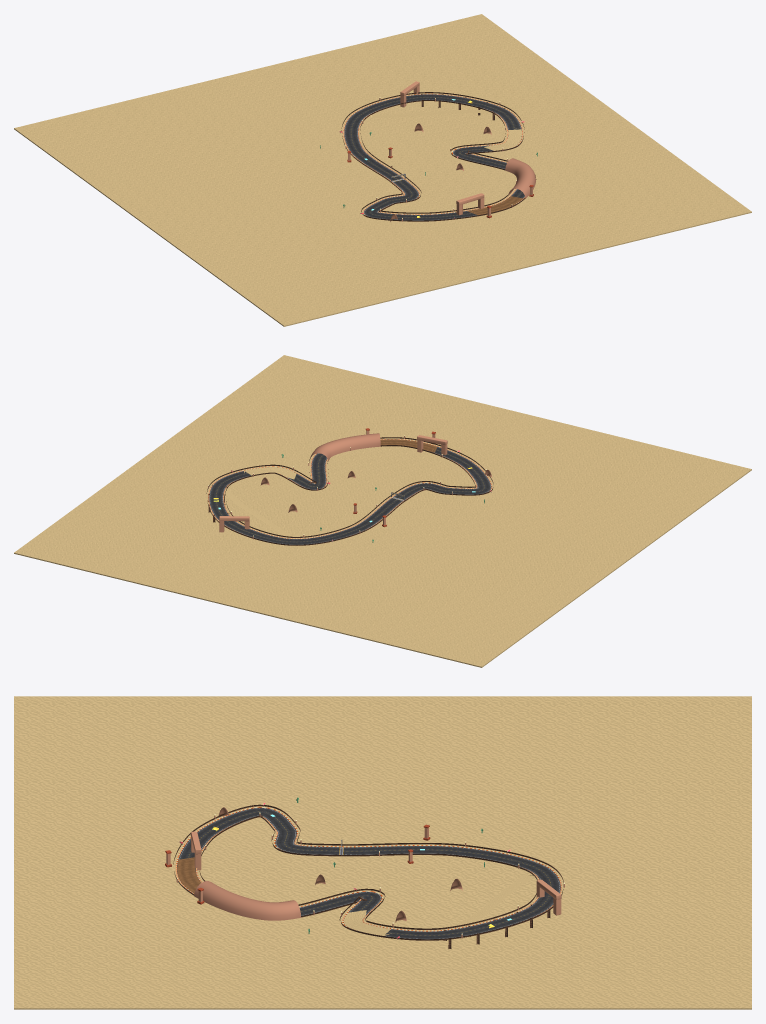
The model's file is canion_solar.glb.
3 renders of one model, top to bottom at view 1: azimuth 30°, elevation 25°; view 2: azimuth 150°, elevation 25°; view 3: azimuth 270°, elevation 25°, orthographic. The views are drawn at different scales.
Visible parts, largest first — view 1: BiomeGroundBasin, MainRoadMesh, LeftStoneWall, RightStoneWall, CoastalTunnelShell; view 2: BiomeGroundBasin, MainRoadMesh, CoastalTunnelShell, LeftStoneWall, RightStoneWall; view 3: BiomeGroundBasin, MainRoadMesh, CoastalTunnelShell, LeftStoneWall, RightStoneWall, LeftCurbMesh, Shortcut_canion-atalho-dunas, RightCurbMesh, SurfacePatch_canion-sand-wash, SurfacePatch_canion-dirt-ruins.
Boxes of the visible parts, x1,y1,x2,y2 form: BiomeGroundBasin: (14,14,751,326); MainRoadMesh: (344,94,524,220); LeftStoneWall: (341,92,536,221); RightStoneWall: (360,100,508,213); CoastalTunnelShell: (505,158,535,198); BiomeGroundBasin: (14,355,751,667); MainRoadMesh: (209,439,491,544); CoastalTunnelShell: (310,433,380,461); LeftStoneWall: (206,437,493,545); RightStoneWall: (225,445,476,537); BiomeGroundBasin: (14,696,751,1009); MainRoadMesh: (177,807,560,939); CoastalTunnelShell: (194,881,301,920); LeftStoneWall: (173,804,563,940); RightStoneWall: (199,815,537,929); LeftCurbMesh: (175,807,561,928); Shortcut_canion-atalho-dunas: (448,874,533,929); RightCurbMesh: (196,817,539,931); SurfacePatch_canion-sand-wash: (343,910,391,935); SurfacePatch_canion-dirt-ruins: (177,857,201,893).
Bounding box in the file's own units: 640 × 28.57 × 640.
15 materials, 9 textured.
